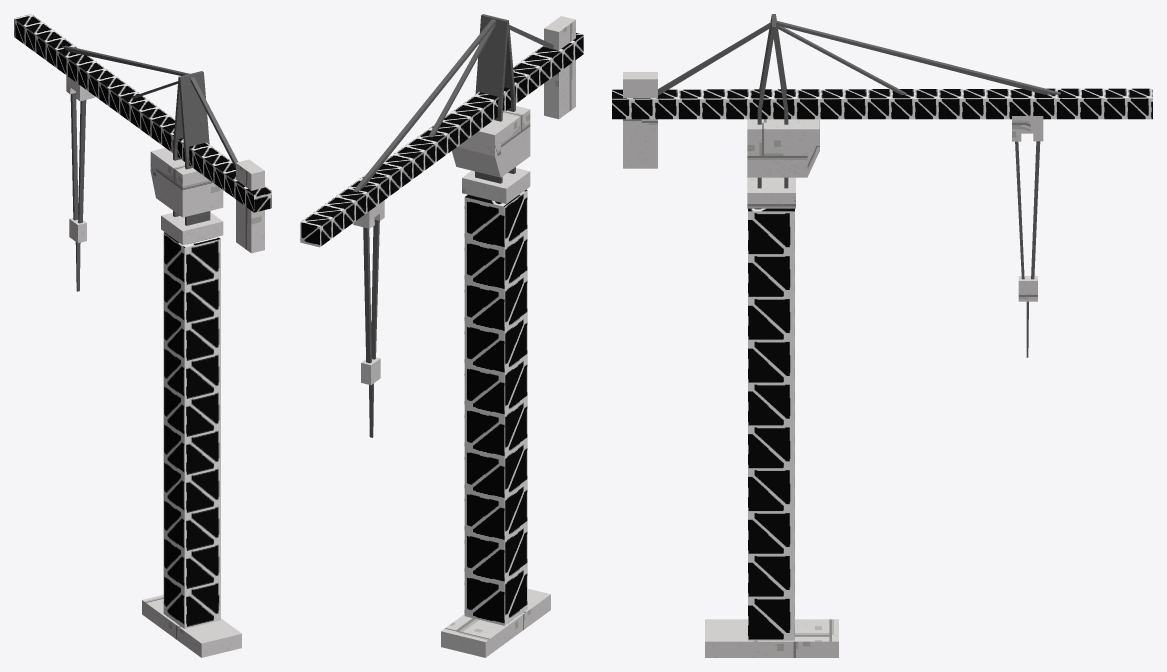
Rendered from Hijskraan.fbx.
The picture shows the model from 3 angles, left to right: view 1: azimuth 30°, elevation 25°; view 2: azimuth 150°, elevation 25°; view 3: azimuth 270°, elevation 25°; orthographic projection. The views are drawn at different scales.
Visible parts, largest first — view 1: Cube.023, Cube.021, Cube.020, Cube.024; view 2: Cube.023, Cube.021, Cube.020, Cube.024; view 3: Cube.023, Cube.020, Cube.021, Cube.024.
Boxes of the visible parts, x1,y1,x2,y2 form: Cube.023: [163, 233, 220, 628]; Cube.021: [66, 75, 264, 657]; Cube.020: [14, 14, 271, 247]; Cube.024: [62, 45, 238, 291]; Cube.023: [464, 190, 527, 625]; Cube.021: [353, 16, 575, 657]; Cube.020: [300, 33, 583, 247]; Cube.024: [353, 14, 553, 437]; Cube.023: [748, 211, 794, 640]; Cube.020: [612, 88, 1152, 211]; Cube.021: [623, 72, 1043, 657]; Cube.024: [658, 14, 1060, 357].
Size of the model in its own units: 34.39 by 450 by 352.
